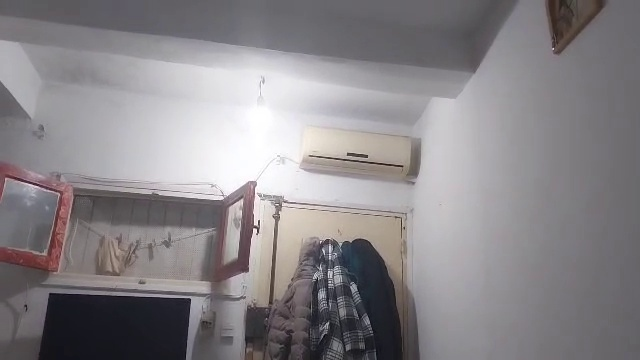air_conditioner: (297, 107, 423, 187)
